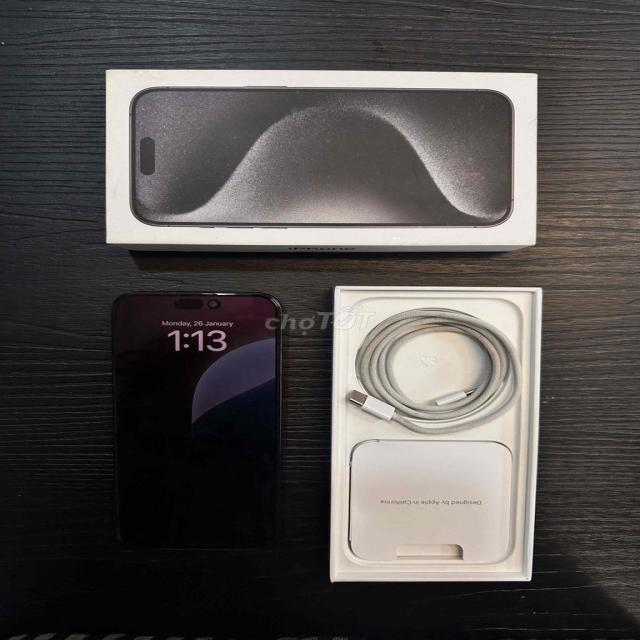gen_15: (90, 281, 301, 577)
